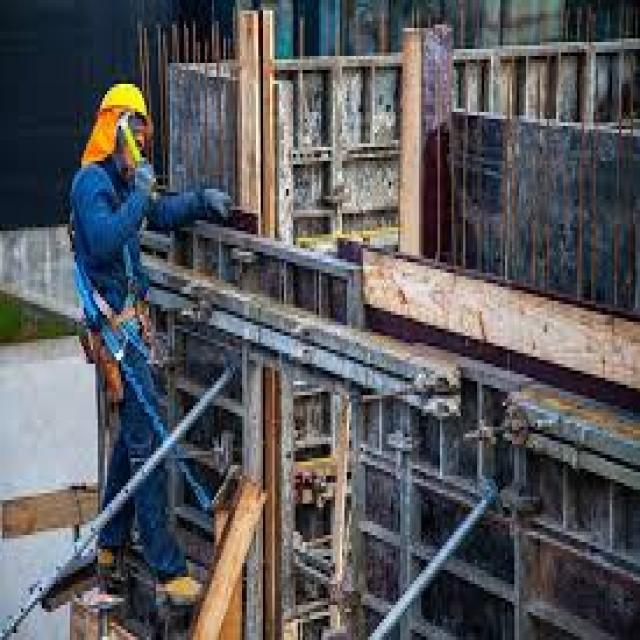safety_helmet: (90, 73, 158, 139)
